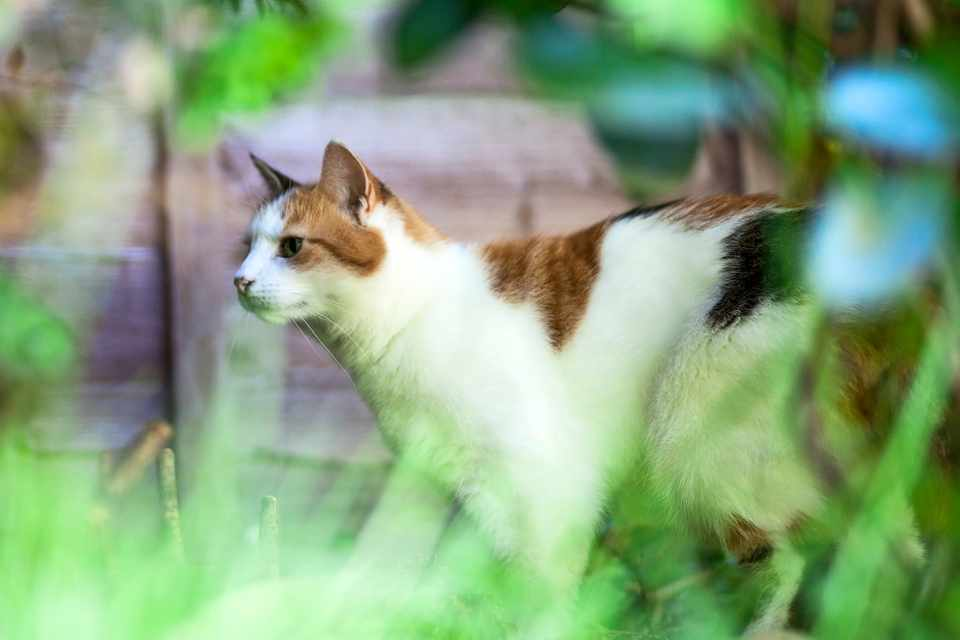cat: (239, 144, 802, 603)
